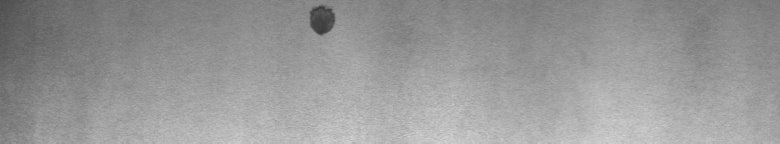fi: (303, 4, 340, 44)
